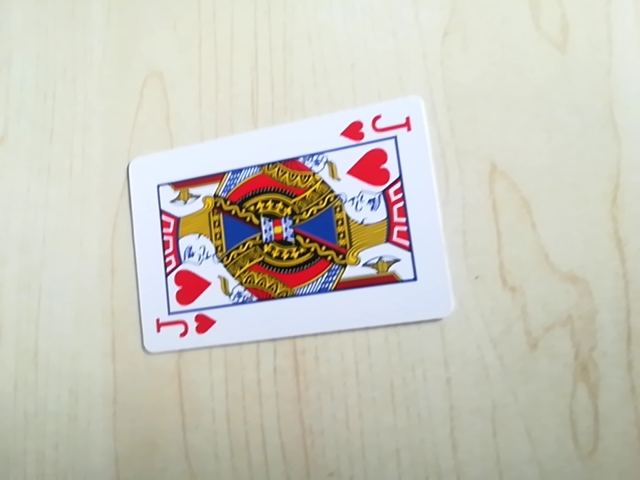hx j: (338, 107, 413, 146), (152, 308, 219, 348)
